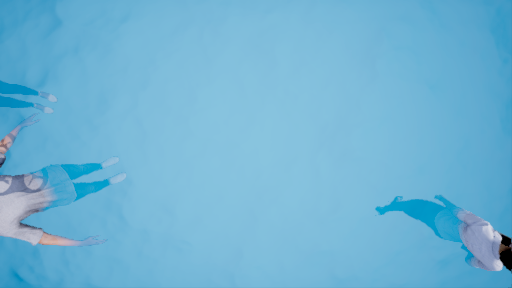person: (1, 124, 128, 245), (378, 191, 512, 273)
